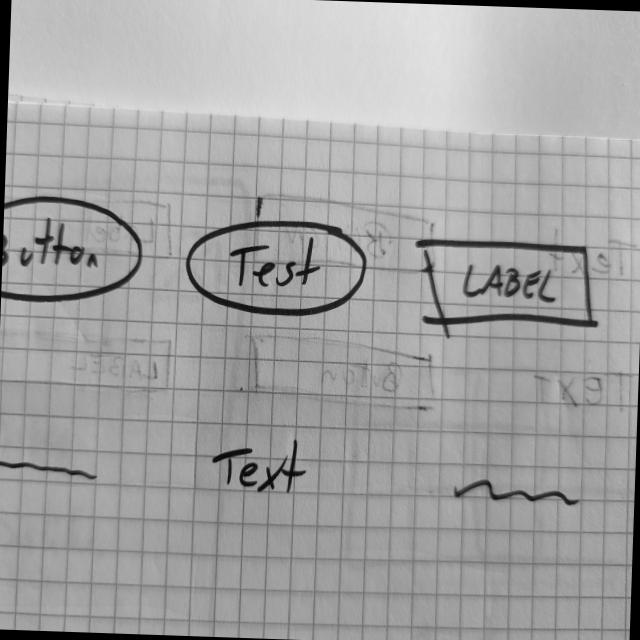button: (185, 216, 370, 324), (414, 233, 602, 335), (2, 192, 146, 310)
label: (208, 433, 313, 499)
text: (451, 475, 582, 516), (1, 457, 99, 490)
